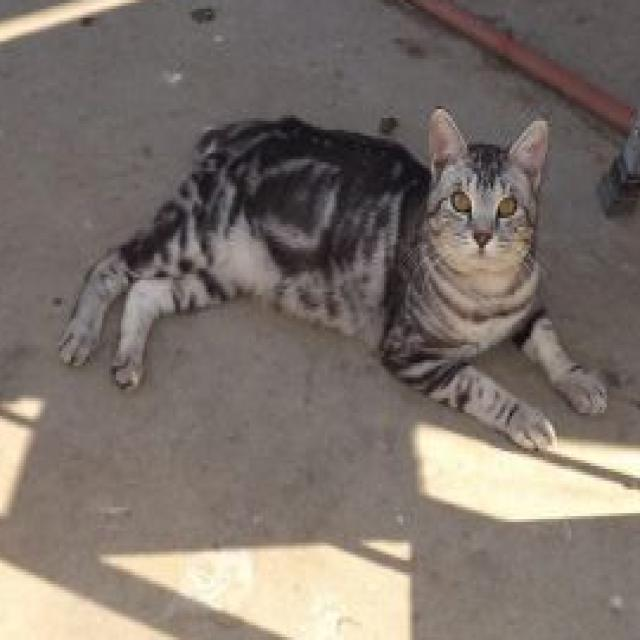American Bobtail: (55, 102, 612, 459)
